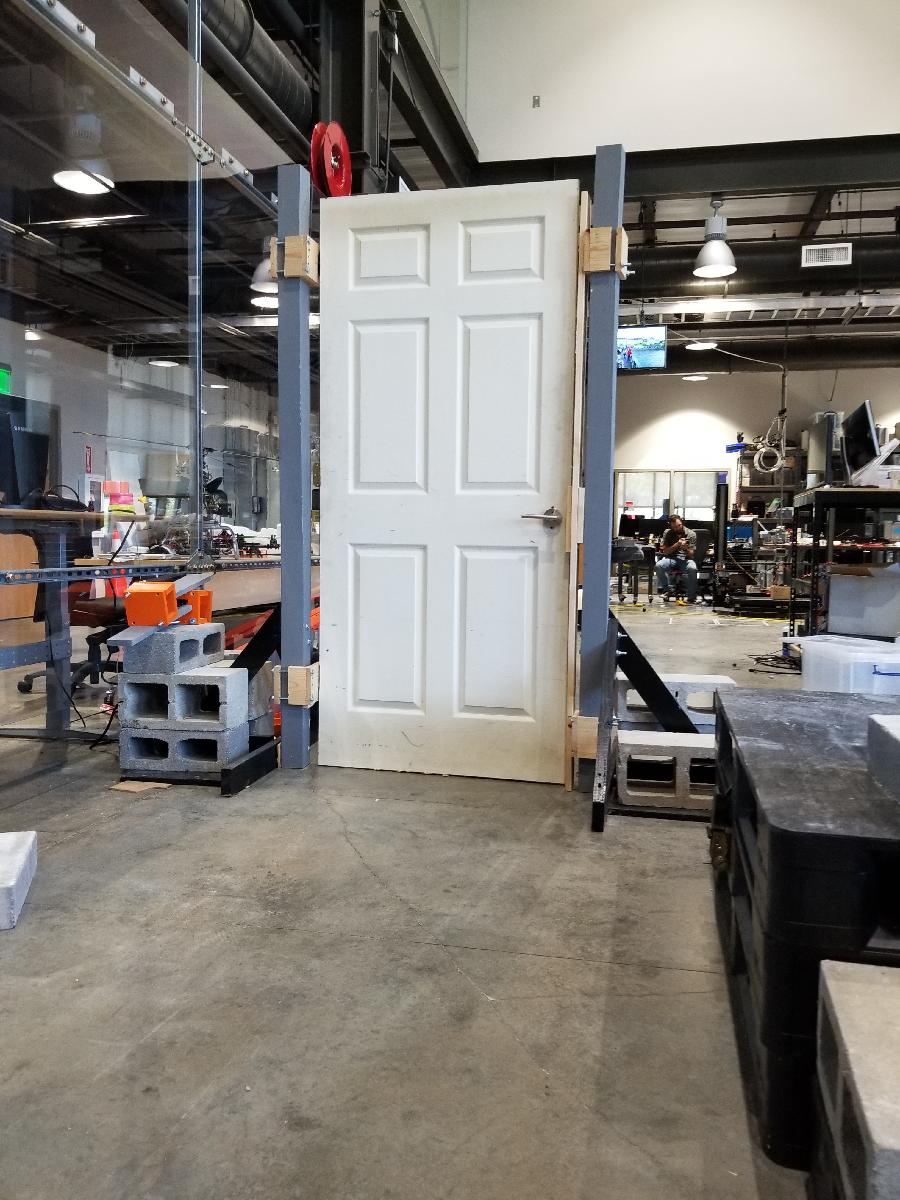door: (316, 175, 583, 793)
doorHandle: (510, 501, 565, 537)
